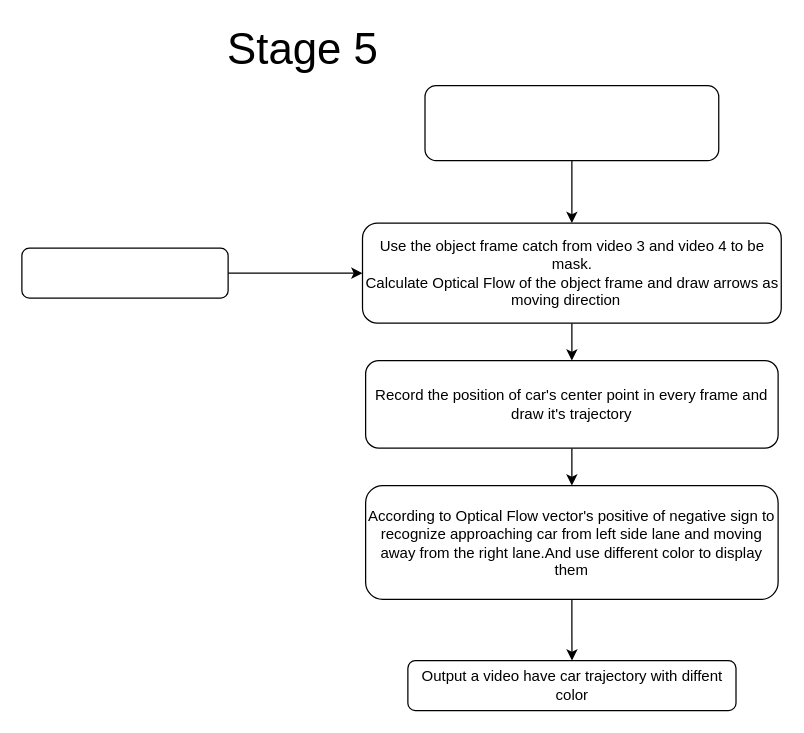
Some shapes in this 804 by 733 pixel diagram are drawn without their labels. Each missing label, with the box of its shape:
Explain the different of Sparse/Dense Optical Flow and calculate Motion Vector: (424, 84, 719, 161)
Input video 4: (21, 247, 228, 298)
